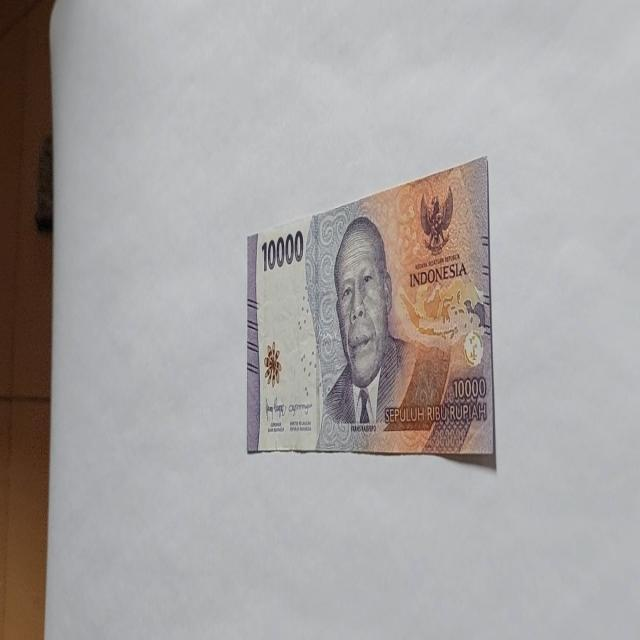sepuluh ribu rupiah: (246, 154, 496, 466), (316, 214, 452, 452)
